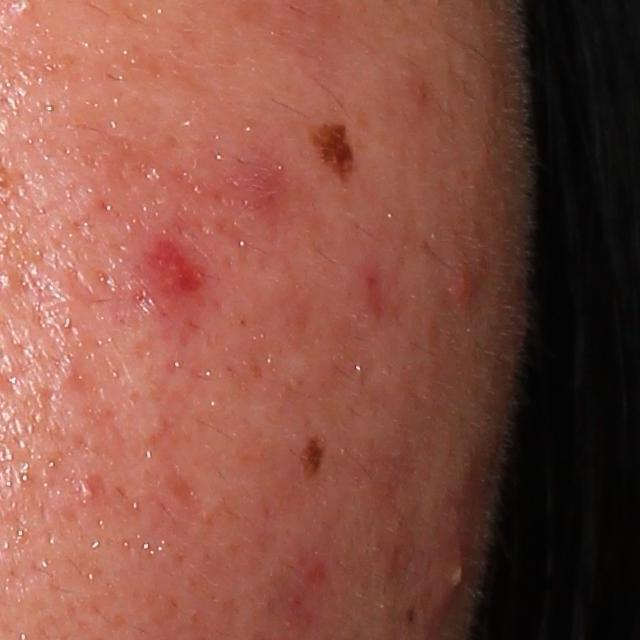nevus: (301, 122, 360, 185), (297, 432, 329, 479)
papule: (124, 238, 208, 318), (446, 256, 491, 316), (239, 158, 283, 211)
pustule: (431, 540, 471, 614)
